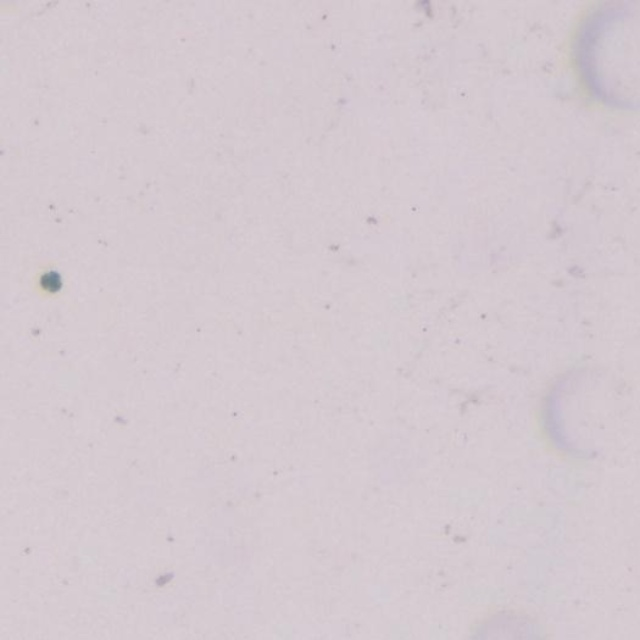non_viable: (40, 271, 61, 293)
